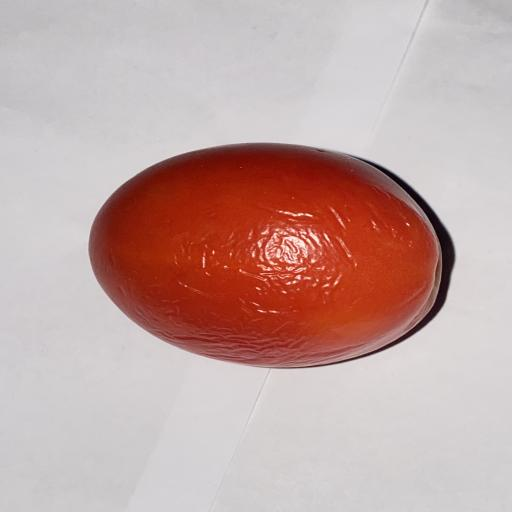spoiled: (89, 144, 441, 367)
